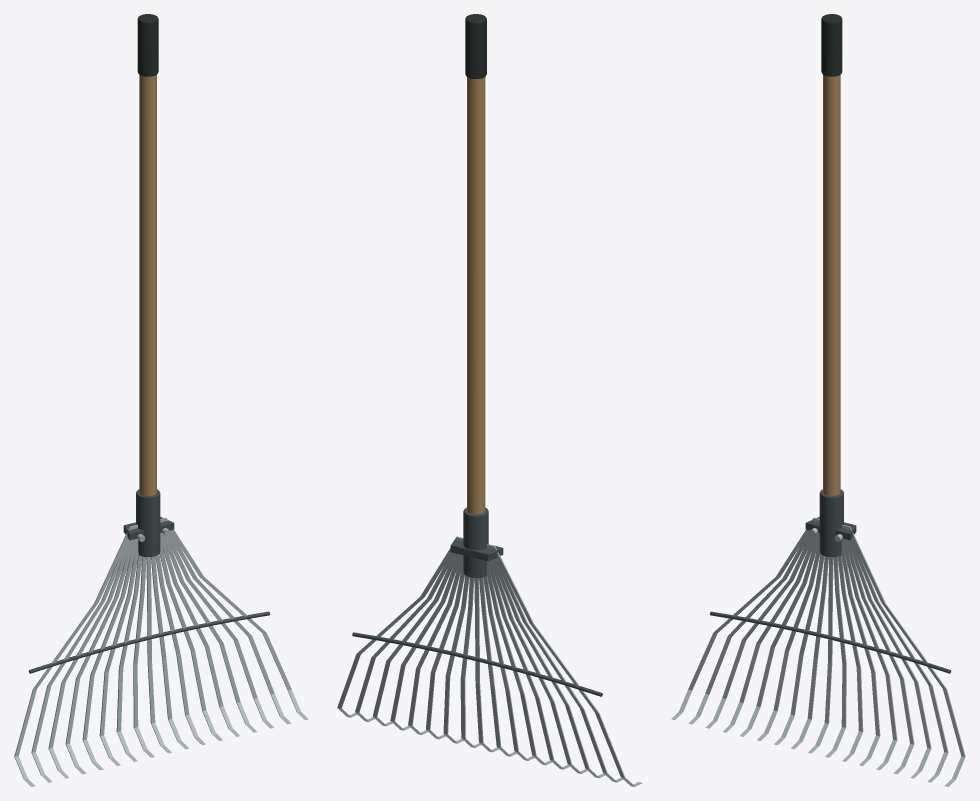
Rendered from city-fan-leaf-rake.glb.
The picture shows the model from 3 angles, left to right: view 1: azimuth 30°, elevation 25°; view 2: azimuth 150°, elevation 25°; view 3: azimuth 330°, elevation 25°; orthographic projection. The views are drawn at different scales.
Visible parts, largest first — view 1: Assembly | Satin tool steel, Assembly | Plain wooden shaft color, Assembly | Dark coated steel, Assembly | Dark matte grip; view 2: Assembly | Satin tool steel, Assembly | Plain wooden shaft color, Assembly | Dark coated steel, Assembly | Dark matte grip; view 3: Assembly | Satin tool steel, Assembly | Plain wooden shaft color, Assembly | Dark coated steel, Assembly | Dark matte grip.
Part boxes in pixels (<box>): Assembly | Satin tool steel: <box>14,517,308,786</box>; Assembly | Plain wooden shaft color: <box>139,74,156,495</box>; Assembly | Dark coated steel: <box>28,489,269,673</box>; Assembly | Dark matte grip: <box>137,14,158,76</box>; Assembly | Satin tool steel: <box>337,537,642,786</box>; Assembly | Plain wooden shaft color: <box>467,77,485,514</box>; Assembly | Dark coated steel: <box>352,507,602,696</box>; Assembly | Dark matte grip: <box>465,14,486,78</box>; Assembly | Satin tool steel: <box>671,517,965,786</box>; Assembly | Plain wooden shaft color: <box>823,74,840,495</box>; Assembly | Dark coated steel: <box>710,489,951,673</box>; Assembly | Dark matte grip: <box>821,14,842,76</box>.
Size of the model in its own units: 0.578 by 1.43 by 0.1031.
